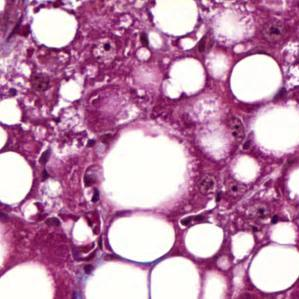steatosis: (105, 214, 179, 263), (228, 52, 286, 101), (25, 8, 85, 47), (185, 218, 229, 259)
